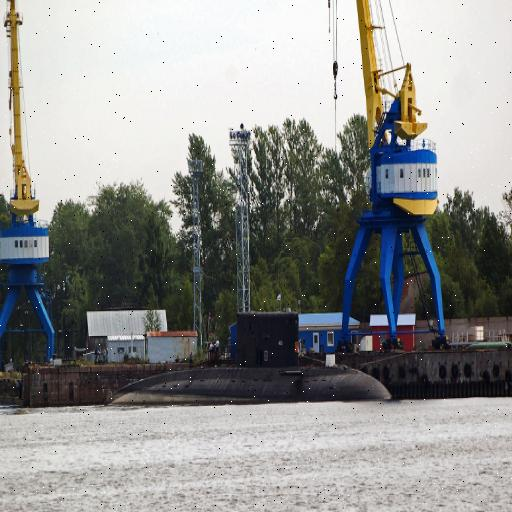submarine: (114, 309, 402, 400)
